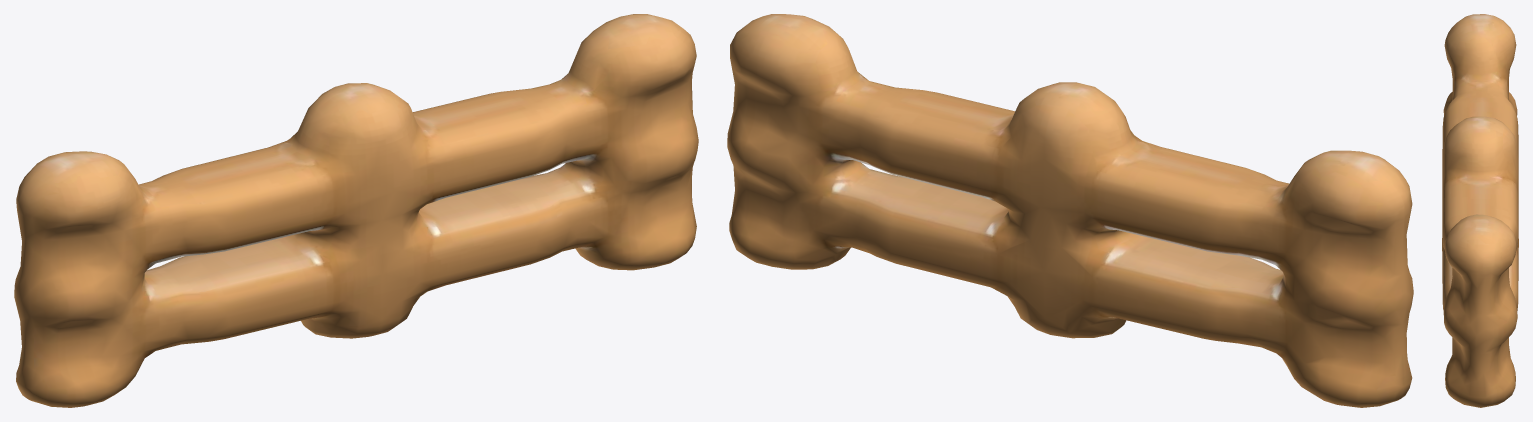
Rendered from fence.glb.
The picture shows the model from 3 angles, left to right: view 1: azimuth 30°, elevation 25°; view 2: azimuth 150°, elevation 25°; view 3: azimuth 270°, elevation 25°; orthographic projection. The views are drawn at different scales.
Visible parts, largest first — view 1: prop; view 2: prop; view 3: prop.
Part boxes in pixels (<box>): prop: <box>14,14,698,407</box>; prop: <box>727,14,1413,407</box>; prop: <box>1442,14,1518,407</box>.
Size of the model in its own units: 2.98 by 1 by 0.4006.
Materials: 1 (1 with a texture image).
